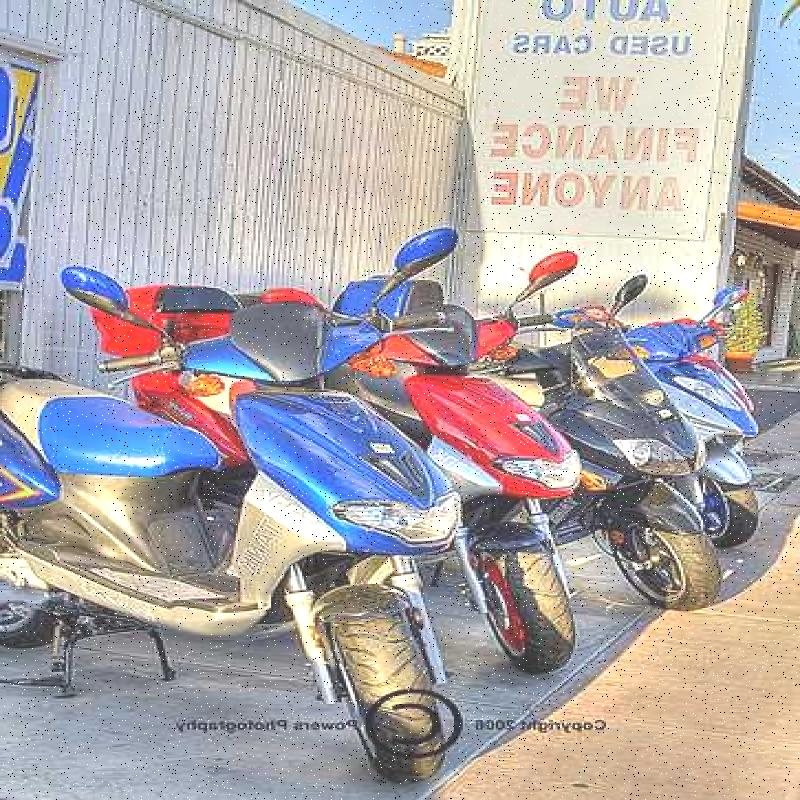bike: (0, 241, 474, 800), (329, 264, 557, 649), (511, 278, 736, 608)
